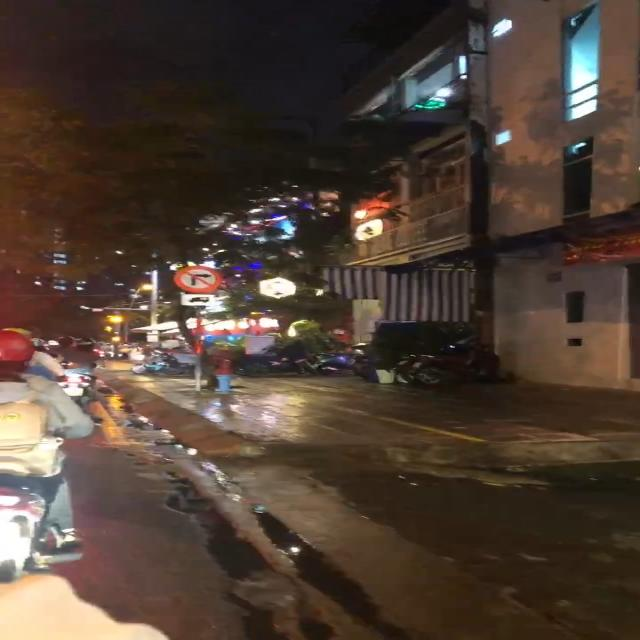Bien bao cam re phai: (168, 261, 224, 293)
